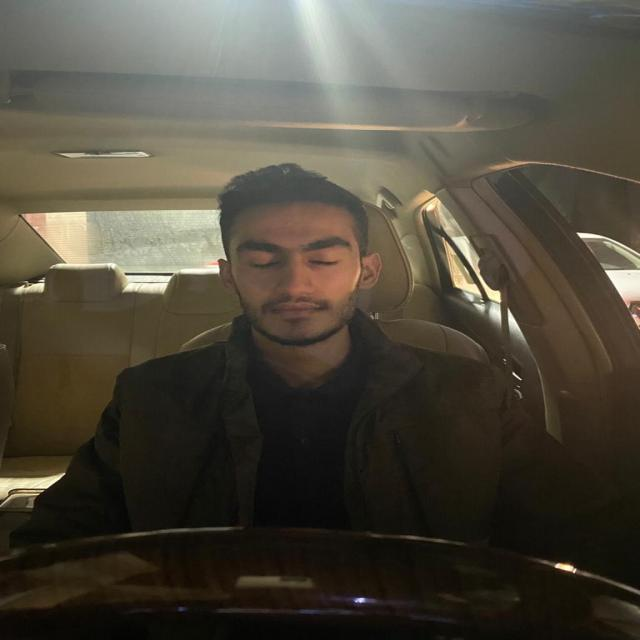drowsy: (212, 158, 380, 347)
